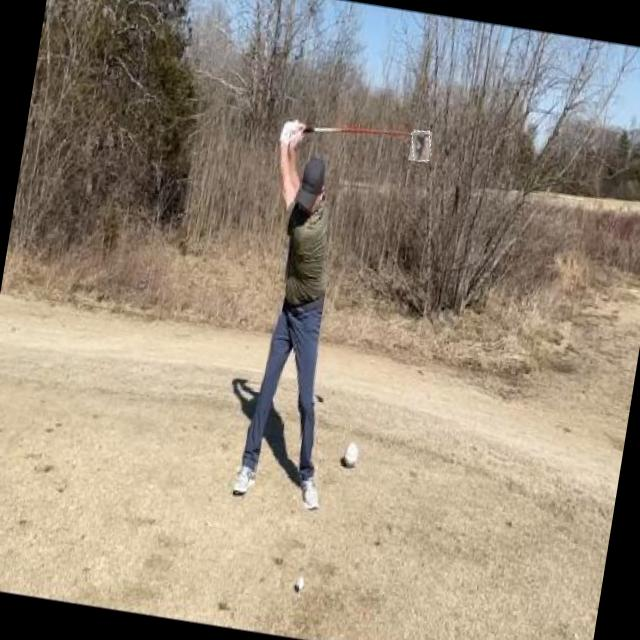club head: (408, 129, 434, 163)
